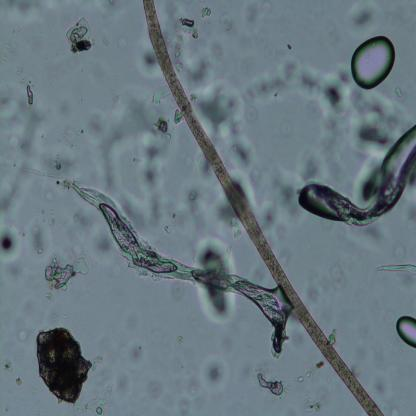Air bubble: (349, 34, 395, 89), (396, 315, 416, 348)
Background material: (292, 63, 394, 145), (230, 133, 304, 216), (87, 107, 143, 185), (297, 148, 356, 222), (34, 330, 90, 401), (0, 98, 50, 173), (194, 72, 244, 130), (358, 317, 390, 399), (238, 59, 292, 101), (139, 140, 168, 217), (308, 254, 353, 302), (183, 36, 232, 80), (236, 0, 280, 38), (195, 232, 232, 270), (0, 165, 28, 209), (44, 259, 88, 287), (81, 383, 115, 416), (203, 353, 230, 392), (202, 288, 232, 322), (23, 214, 46, 258), (65, 18, 94, 52), (54, 117, 81, 152), (93, 76, 122, 108), (214, 204, 242, 236), (0, 224, 21, 264), (254, 372, 285, 399), (212, 8, 239, 39), (1, 0, 37, 23), (342, 2, 376, 26), (364, 219, 390, 250), (87, 228, 112, 260), (395, 193, 416, 228), (50, 152, 70, 188), (65, 207, 92, 233), (10, 315, 32, 346), (190, 187, 206, 228), (109, 370, 132, 398), (137, 52, 164, 75), (174, 16, 198, 41), (4, 257, 23, 288), (299, 391, 324, 413), (152, 116, 172, 143), (185, 155, 205, 180), (20, 75, 35, 108), (122, 190, 141, 216), (127, 336, 143, 366), (384, 244, 405, 266), (382, 397, 406, 416), (145, 376, 164, 398), (3, 40, 18, 66), (246, 102, 262, 126), (152, 84, 171, 104), (174, 41, 184, 74), (91, 348, 104, 372), (168, 281, 187, 297), (279, 119, 293, 139), (393, 78, 406, 99), (44, 206, 57, 226), (160, 217, 174, 235), (328, 326, 340, 346), (298, 370, 314, 384), (177, 403, 194, 416), (11, 370, 24, 387), (39, 289, 56, 300), (200, 5, 212, 20), (48, 315, 62, 324), (282, 43, 294, 53), (118, 41, 127, 53), (104, 41, 113, 52), (4, 358, 12, 370), (318, 360, 326, 371), (178, 332, 184, 346), (61, 312, 69, 320), (3, 403, 10, 411)
Cellulose filter fibre: (70, 179, 286, 330), (326, 137, 416, 228), (375, 260, 416, 276)
Microfibre: (142, 0, 384, 415)
